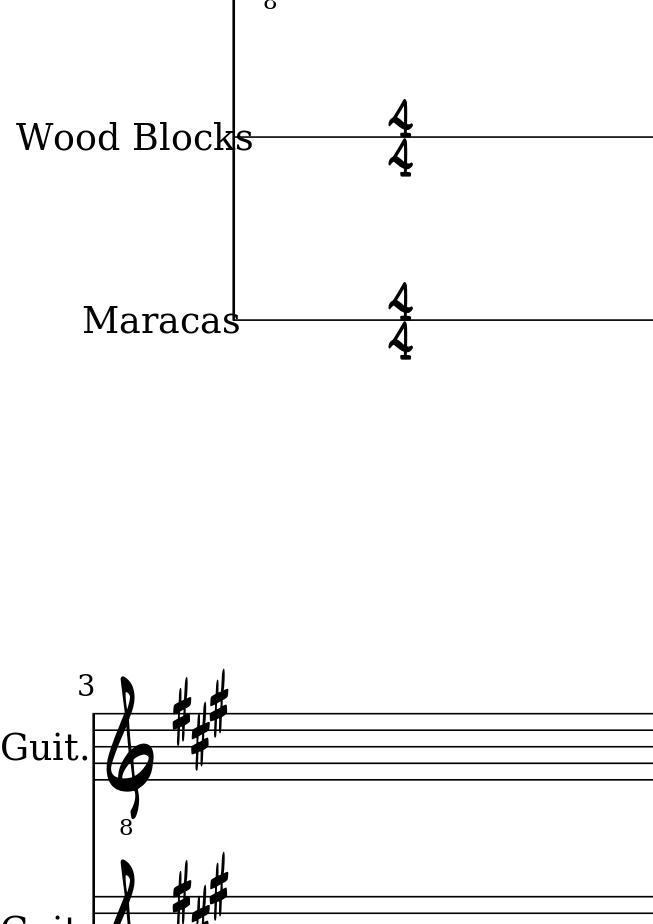3: (78, 672, 95, 698)
4: (386, 320, 418, 364), (386, 138, 418, 178), (386, 96, 416, 137), (386, 280, 416, 320)
A_S: (171, 669, 234, 770)
Guit: (1, 730, 79, 762)
Lower_Gclef: (106, 677, 153, 837)
Single_barline: (88, 712, 99, 781)
TimeSig: (388, 281, 414, 362), (388, 99, 414, 180)
